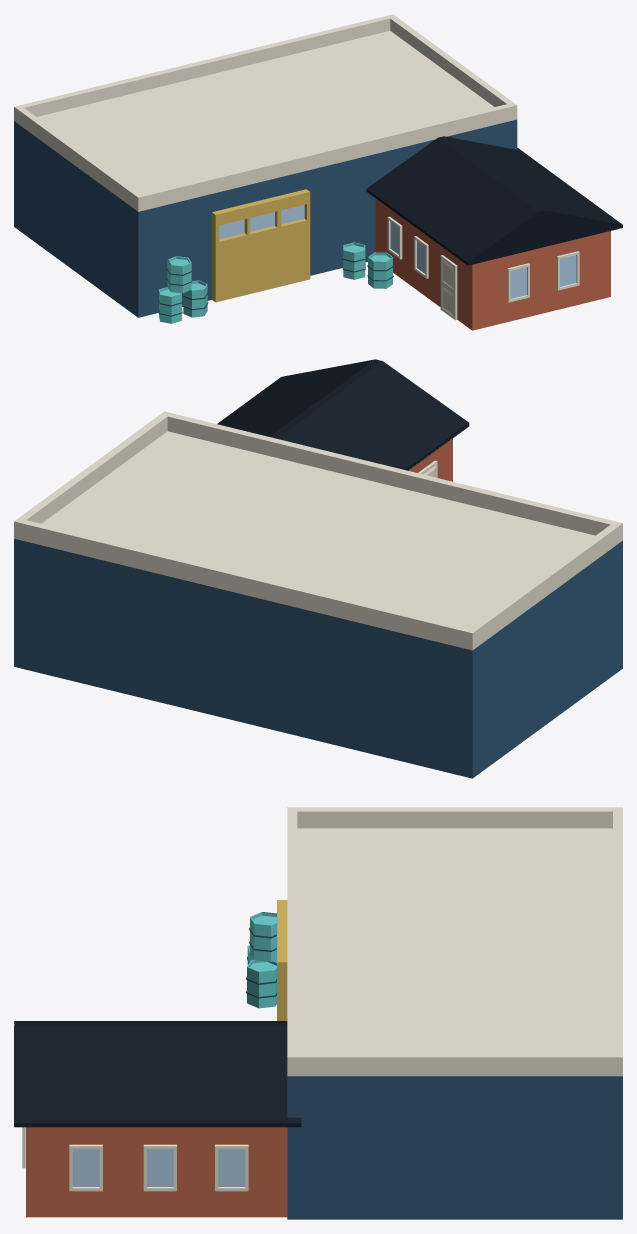
File: Wholesale2.FBX
The picture shows the model from 3 angles, top to bottom: view 1: azimuth 30°, elevation 25°; view 2: azimuth 150°, elevation 25°; view 3: azimuth 270°, elevation 25°; orthographic projection. The views are drawn at different scales.
Parts seen in each view (by area): view 1: Box226, Box228, Box227, Box236, Cylinder003, Cylinder005, Box232, Cylinder001, Box231, Cylinder002, Cylinder004, Box229 (+1 smaller); view 2: Box226, Box228, Box227; view 3: Box226, Box228, Box227, Box234, Box235, Box233, Cylinder002, Cylinder005.
Part boxes in pixels (bbox=[...]): Box226: bbox=[14, 14, 517, 317]; Box228: bbox=[366, 136, 622, 265]; Box227: bbox=[375, 199, 610, 330]; Box236: bbox=[440, 255, 457, 320]; Cylinder003: bbox=[367, 252, 393, 288]; Cylinder005: bbox=[166, 256, 192, 293]; Box232: bbox=[556, 251, 579, 290]; Cylinder001: bbox=[342, 242, 365, 279]; Box231: bbox=[507, 263, 529, 302]; Cylinder002: bbox=[182, 280, 208, 317]; Cylinder004: bbox=[158, 287, 182, 323]; Box229: bbox=[387, 216, 402, 259]; Box226: bbox=[14, 411, 622, 778]; Box228: bbox=[217, 359, 469, 470]; Box227: bbox=[409, 438, 452, 481]; Box226: bbox=[277, 807, 622, 1219]; Box228: bbox=[14, 1021, 301, 1127]; Box227: bbox=[26, 1127, 287, 1217]; Box234: bbox=[215, 1144, 248, 1191]; Box235: bbox=[69, 1144, 102, 1191]; Box233: bbox=[143, 1144, 176, 1191]; Cylinder002: bbox=[246, 960, 276, 1008]; Cylinder005: bbox=[249, 912, 276, 961].
Size of the model in its own units: 17.88 by 18.21 by 5.35.
